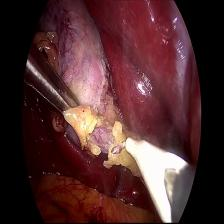Grasper: (22, 42, 83, 117)
Hook: (110, 131, 182, 211)
